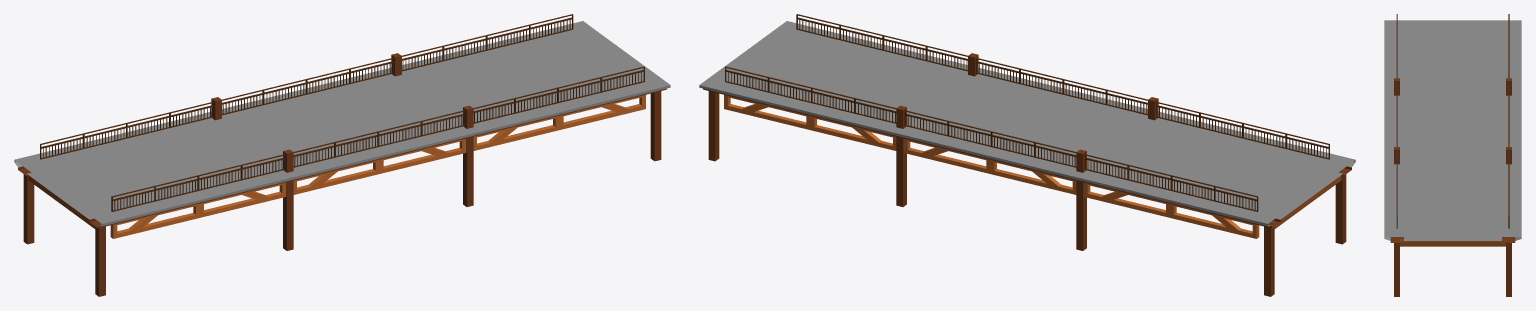
File: BridgeTrain5_1.fbx
The picture shows the model from 3 angles, left to right: view 1: azimuth 30°, elevation 25°; view 2: azimuth 150°, elevation 25°; view 3: azimuth 270°, elevation 25°; orthographic projection. The views are drawn at different scales.
Visible parts, largest first — view 1: Plane.139, Plane.155, Plane.144, Plane.142; view 2: Plane.139, Plane.155, Plane.144, Plane.142; view 3: Plane.139, Plane.142, Plane.155, Plane.143.
Part boxes in pixels (x1,y1,x2,y2): Plane.139: [14, 21, 670, 228]; Plane.155: [40, 14, 644, 211]; Plane.144: [110, 95, 645, 238]; Plane.142: [23, 53, 661, 296]; Plane.139: [699, 21, 1355, 228]; Plane.155: [725, 14, 1329, 211]; Plane.144: [724, 95, 1259, 238]; Plane.142: [708, 53, 1346, 296]; Plane.139: [1384, 20, 1521, 242]; Plane.142: [1394, 78, 1511, 296]; Plane.155: [1396, 14, 1509, 228]; Plane.143: [1400, 239, 1505, 246].
Bounding box in the file's own units: 8400 × 1372 × 2245.
